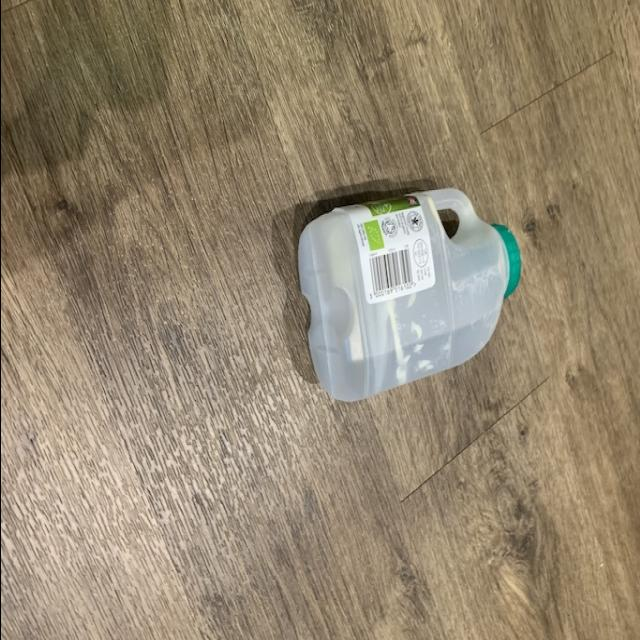HDPEM: (291, 177, 518, 415)
